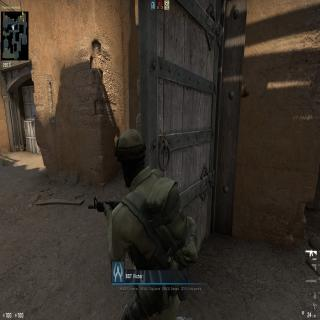CT-Head: (112, 127, 150, 190)
